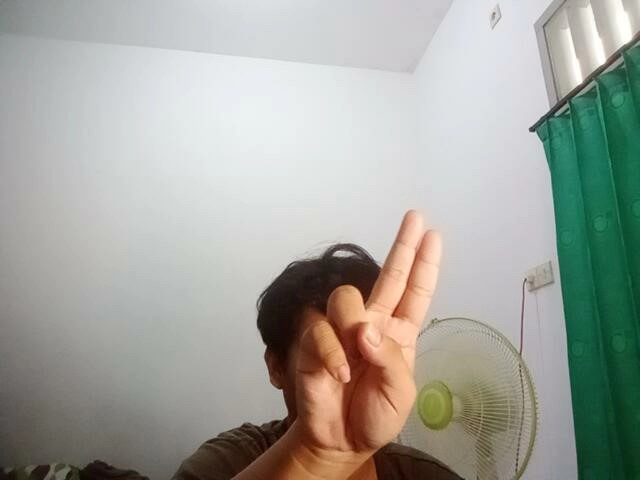U: (269, 204, 451, 461)
